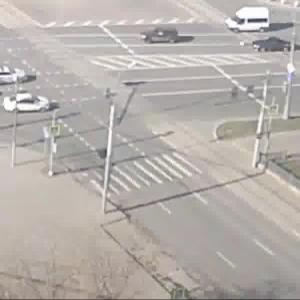car: (226, 9, 275, 32), (142, 25, 187, 46), (5, 95, 53, 114), (253, 35, 295, 55), (1, 66, 31, 87)
